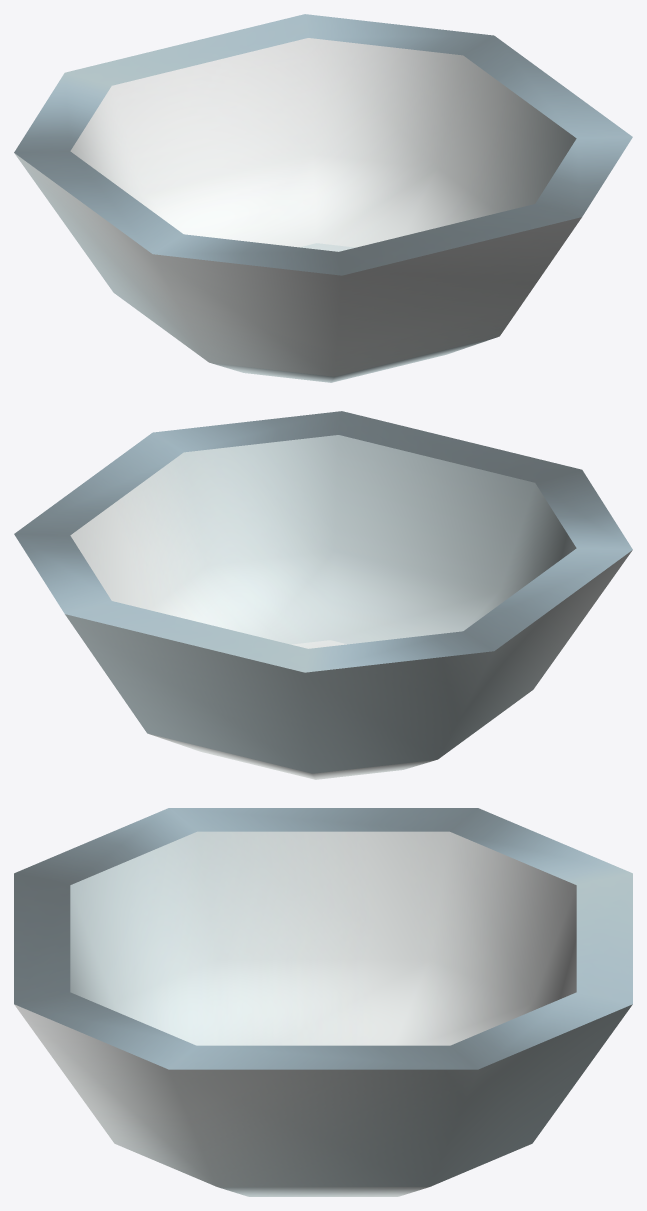
Rendered from bowl_silver.fbx.
3 views of the same model, one above another, from view 1: azimuth 30°, elevation 25°; view 2: azimuth 150°, elevation 25°; view 3: azimuth 270°, elevation 25° (orthographic). The views are drawn at different scales.
Visible parts, largest first — view 1: bowl_silver; view 2: bowl_silver; view 3: bowl_silver.
Boxes of the visible parts, <box> form: bowl_silver: <box>14,14,632,382</box>; bowl_silver: <box>14,411,632,779</box>; bowl_silver: <box>14,808,632,1196</box>.
Bounding box in the file's own units: 47.46 × 16.62 × 47.46.
